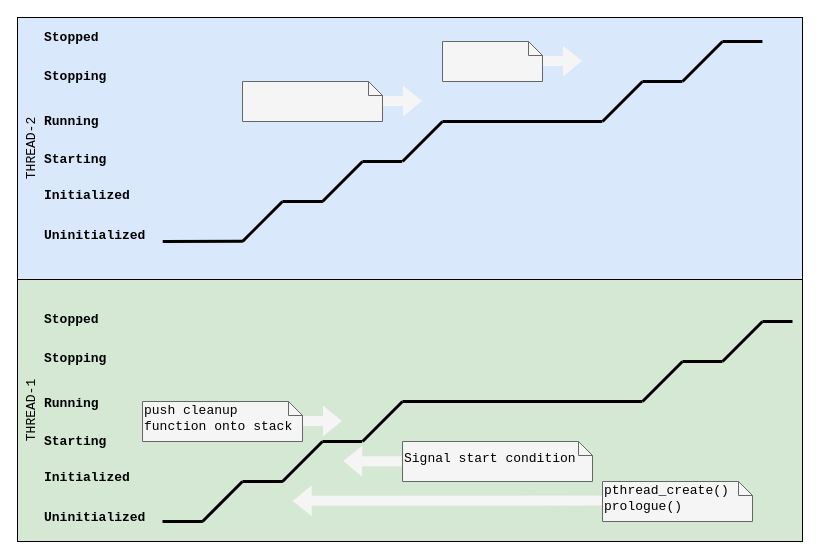
This 820x559 diagram has some shape labels left out. The shapes that lost their labels are listed below. From the top down, each one's centre as x and y in pixels, then its label:
At point (492, 61): "epilogue()".
At point (312, 101): "pthread_cancel".
